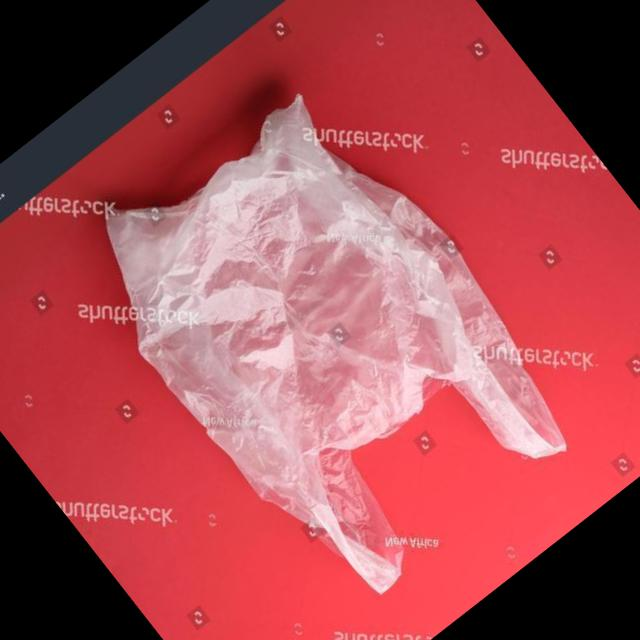KantongPlastik: (53, 50, 601, 625)
